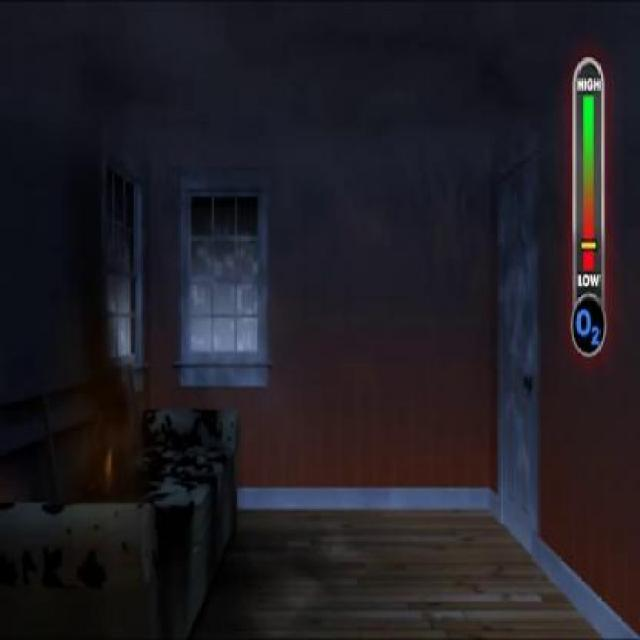fire: (93, 420, 122, 506)
smoke: (314, 21, 548, 337), (8, 1, 136, 388)
